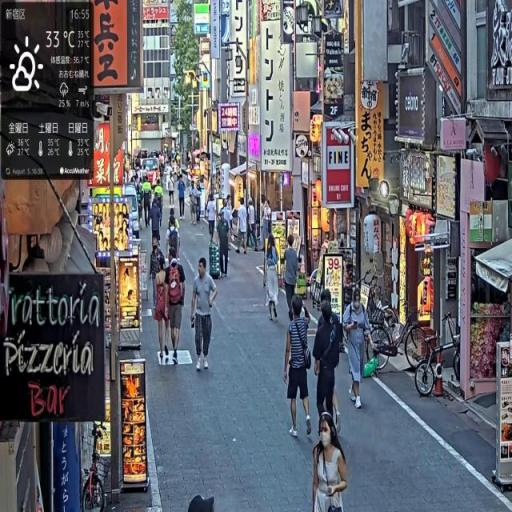person: (312, 289, 344, 445), (284, 296, 315, 444), (343, 286, 375, 413), (312, 413, 349, 512), (191, 256, 218, 375), (164, 252, 188, 366), (283, 234, 300, 326), (218, 212, 232, 279), (238, 199, 251, 257), (167, 214, 182, 263), (207, 192, 218, 246), (178, 176, 187, 218)
